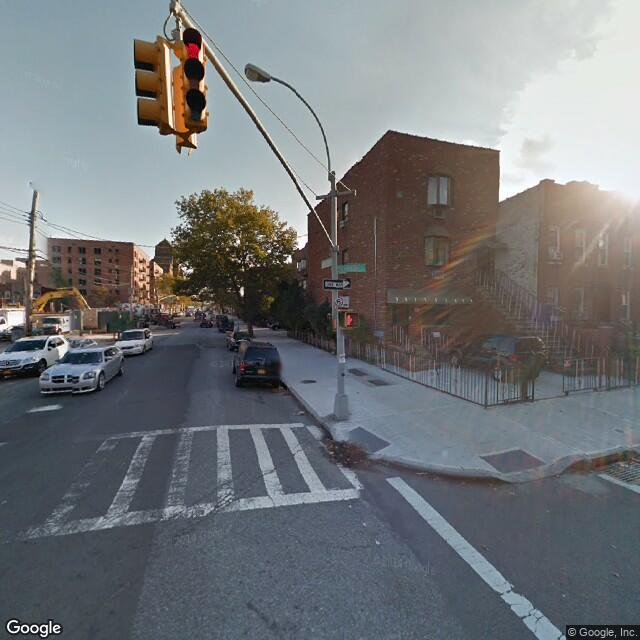litter: (294, 407, 307, 420), (359, 518, 368, 529), (347, 502, 355, 512), (374, 537, 382, 546)
